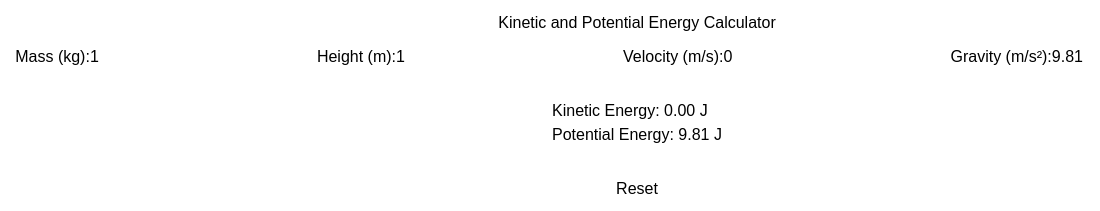
Test: Kinetic and Potential Energy Calculator › updates mass and calculates energy correctly
Replace the text in the number field labelled "Mass (kg):" with "5". click: (193, 57)
box: [90,45,297,69]
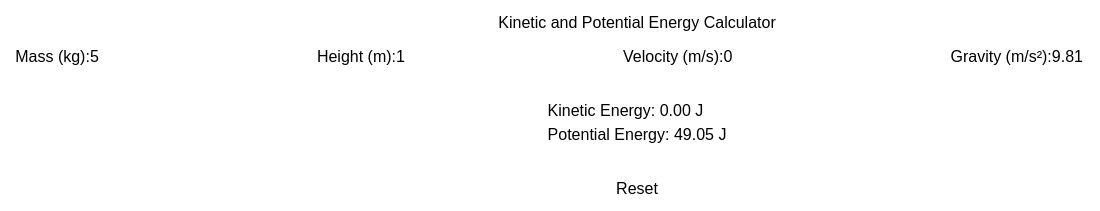
Check: the text "Kinetic Energy: 0.00 J" is shown, box [548,99,726,123]
Check: the text "Potential Energy: 49.05 J" is shown, box [548,123,726,147]
